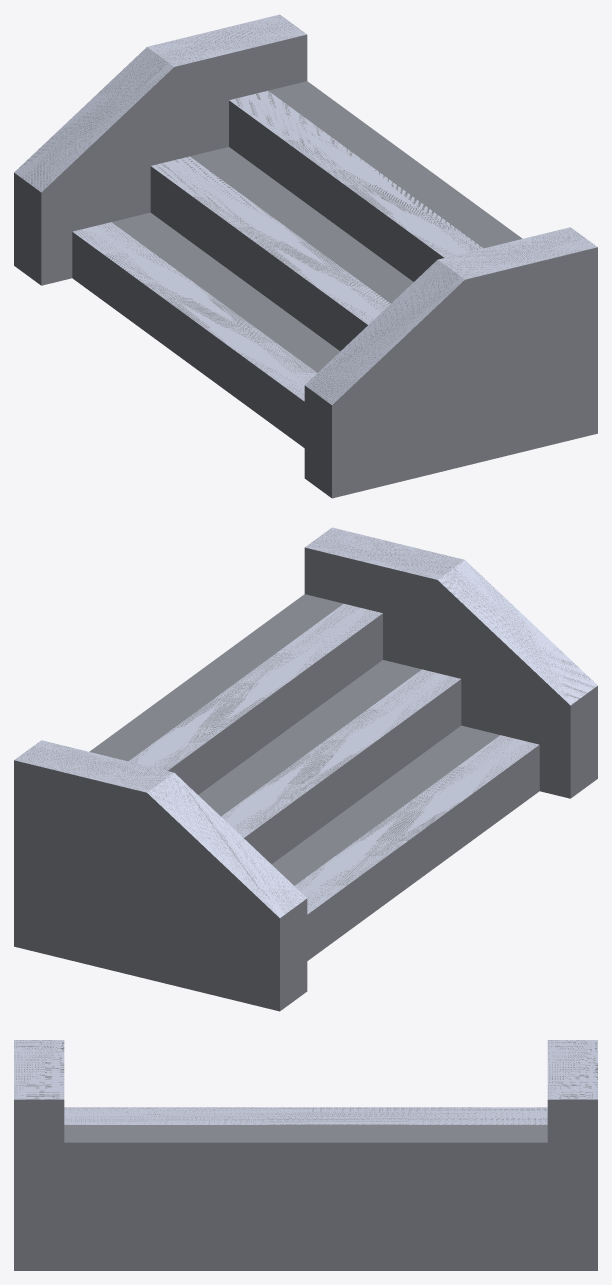
3 views of the same model, one above another, from view 1: azimuth 30°, elevation 25°; view 2: azimuth 150°, elevation 25°; view 3: azimuth 270°, elevation 25° (orthographic). The views are drawn at different scales.
Parts seen in each view (by area): view 1: object_068; view 2: object_068; view 3: object_068.
Boxes of the visible parts, left/top/right/bottom form: object_068: left=14, top=14, right=597, bottom=498; object_068: left=14, top=527, right=597, bottom=1011; object_068: left=14, top=1040, right=597, bottom=1270.
Bounding box in the file's own units: 0.28 × 0.1875 × 0.58.
